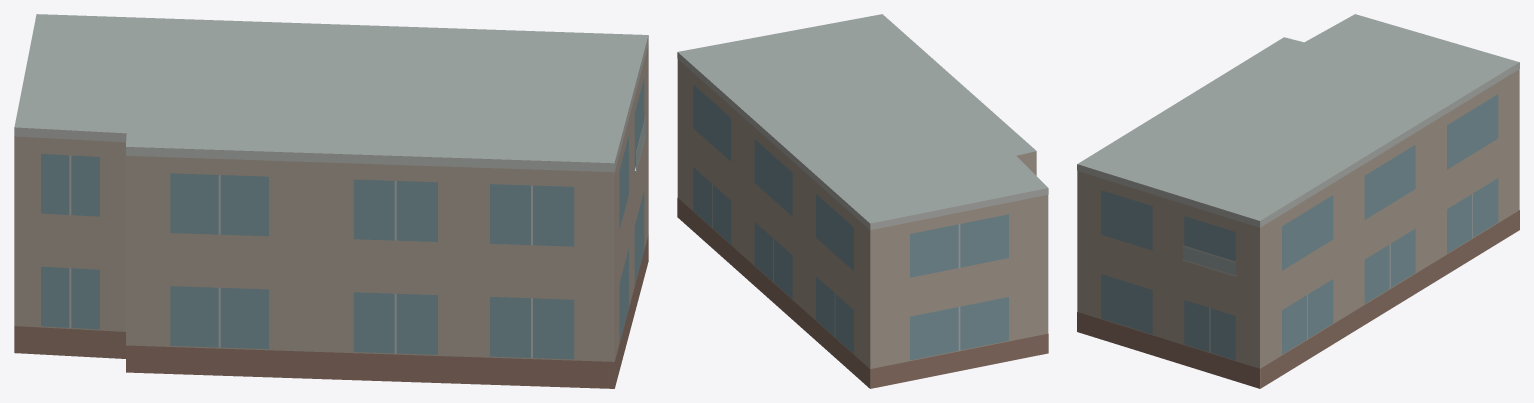
The model's file is survey-upis-32968351.glb.
The picture shows the model from 3 angles, left to right: view 1: azimuth 30°, elevation 25°; view 2: azimuth 150°, elevation 25°; view 3: azimuth 270°, elevation 25°; orthographic projection. The views are drawn at different scales.
Parts seen in each view (by area): view 1: survey-upis-32968351.tmp; view 2: survey-upis-32968351.tmp; view 3: survey-upis-32968351.tmp.
Part boxes in pixels (x1,y1,x2,y2): survey-upis-32968351.tmp: [14, 14, 648, 388]; survey-upis-32968351.tmp: [677, 14, 1048, 388]; survey-upis-32968351.tmp: [1077, 14, 1519, 388].
Size of the model in its own units: 16.15 by 6.1 by 14.59.
